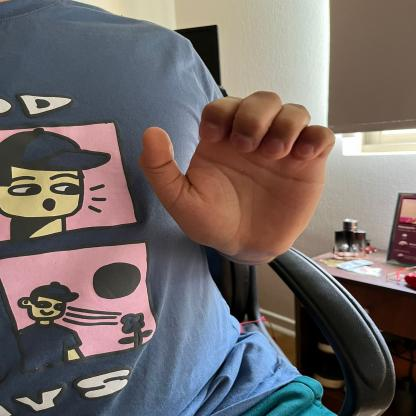E: (136, 84, 340, 262)
